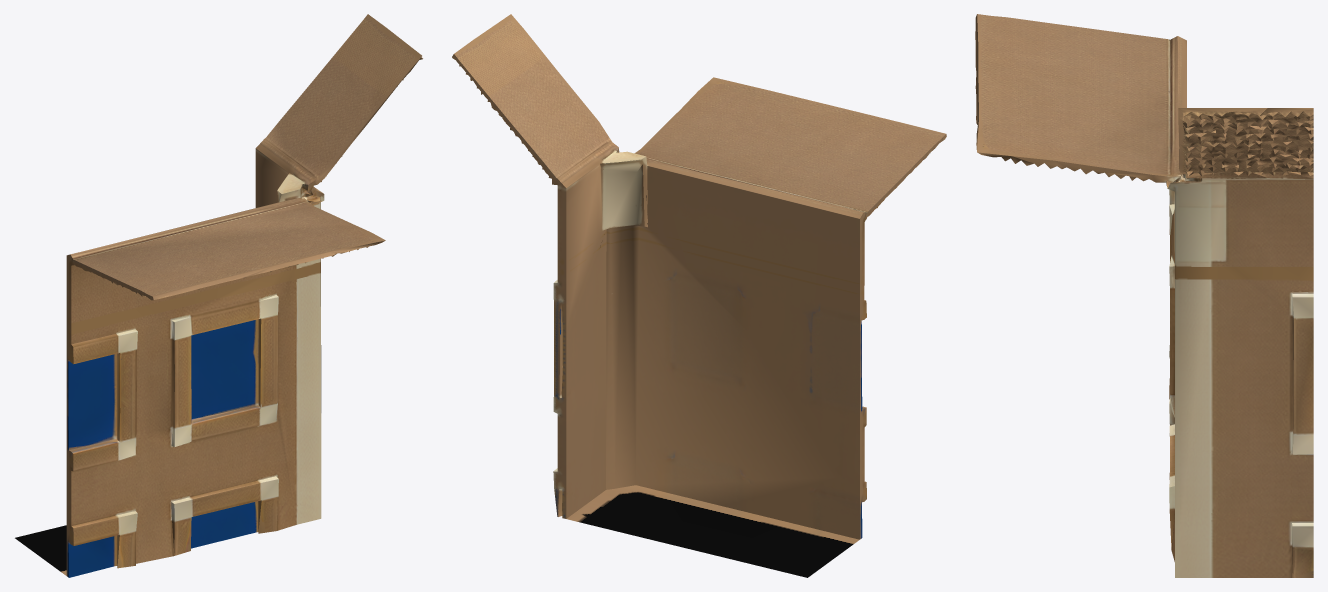
File: 14-topper-front-right.fbx
3 renders of one model, left to right at view 1: azimuth 30°, elevation 25°; view 2: azimuth 150°, elevation 25°; view 3: azimuth 270°, elevation 25°, orthographic. The views are drawn at different scales.
Parts seen in each view (by area): view 1: topper-front-right; view 2: topper-front-right; view 3: topper-front-right.
Part boxes in pixels (x1,y1,x2,y2): topper-front-right: (15,14,422,577); topper-front-right: (452,14,946,577); topper-front-right: (975,14,1313,577).
Bounding box in the file's own units: 7178 × 8422 × 4859.
1 material, 1 textured.
